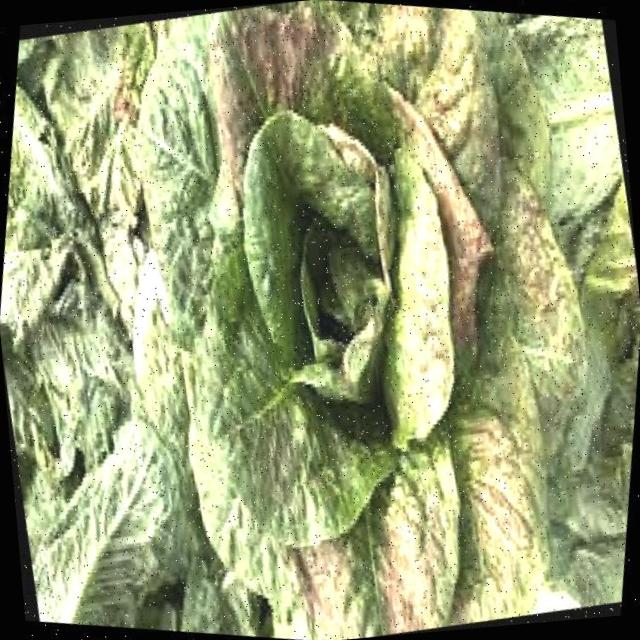Lettuce Mosaic Virus: (69, 0, 638, 639)
